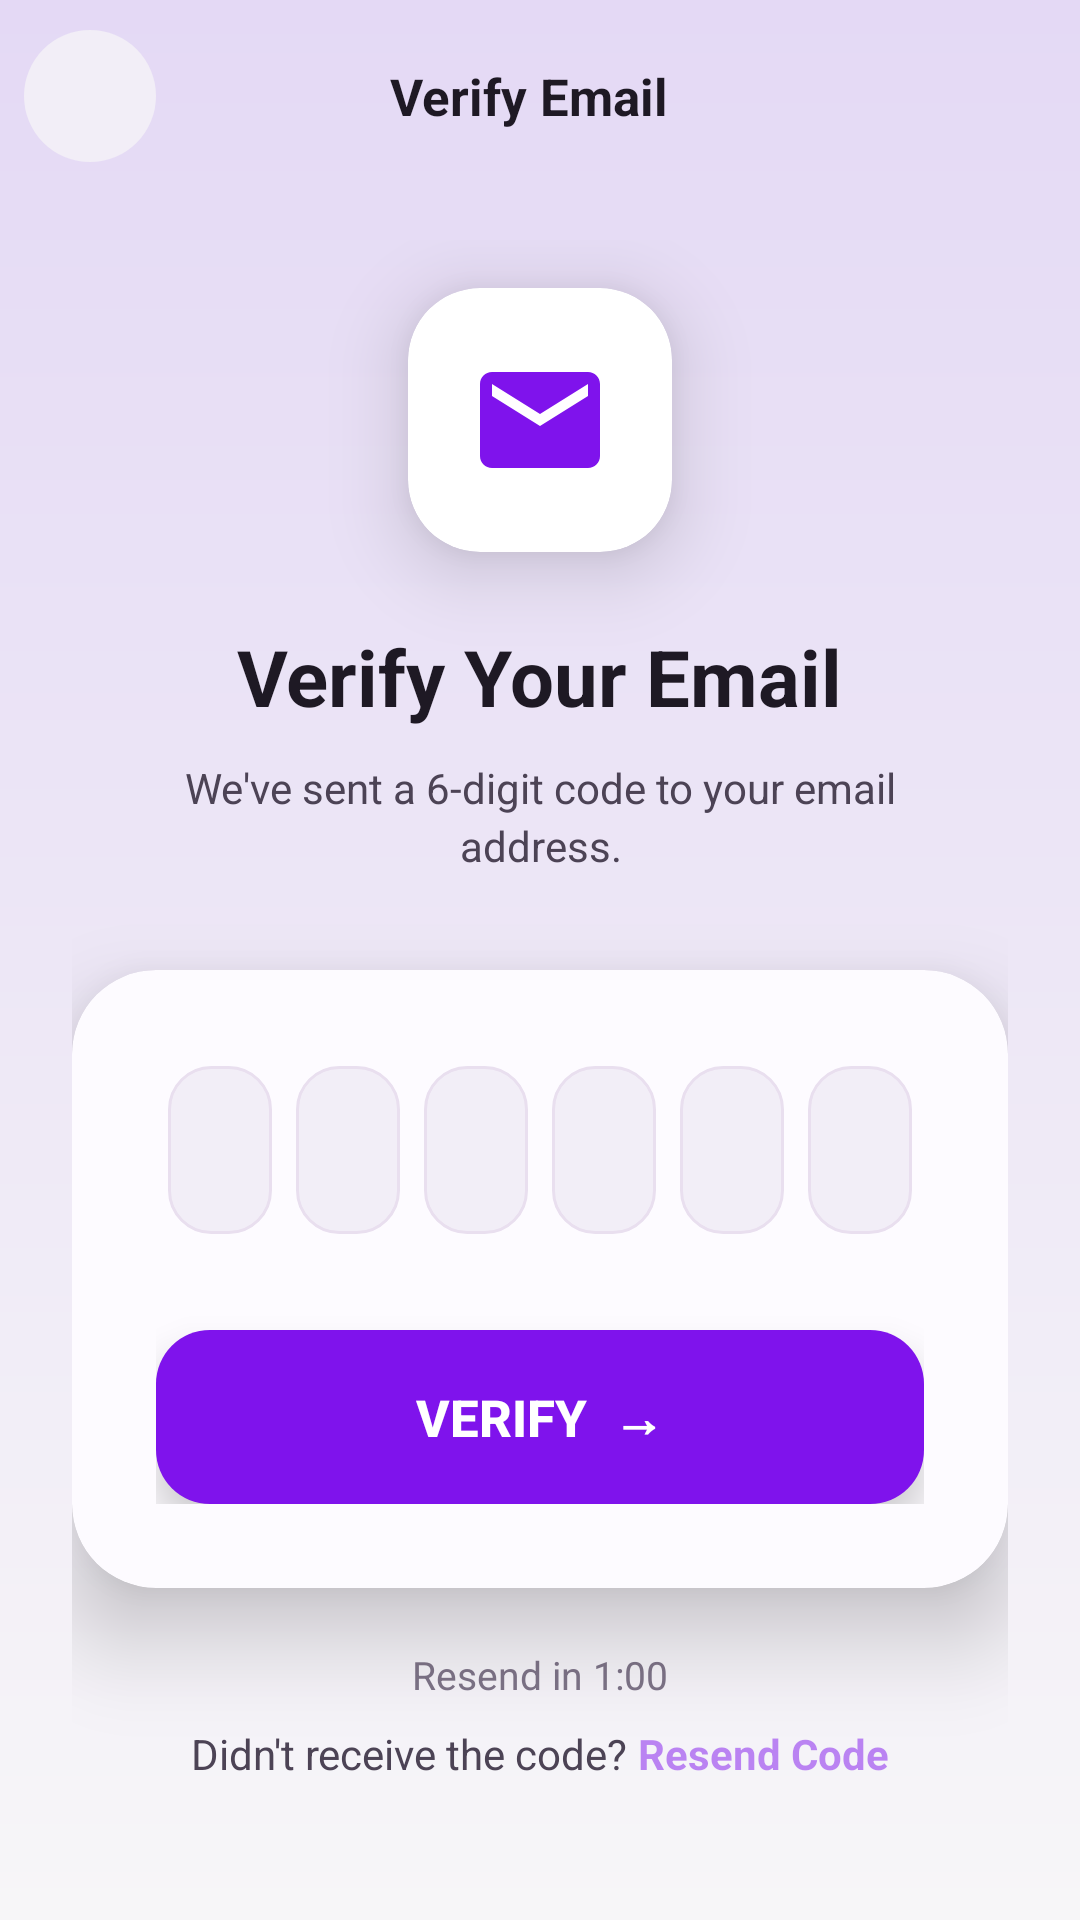

Screen size 1080×1920. Icon name, then its box in pixels as (x1, y1, x2, y2):
login mail: (480, 372, 600, 468)
